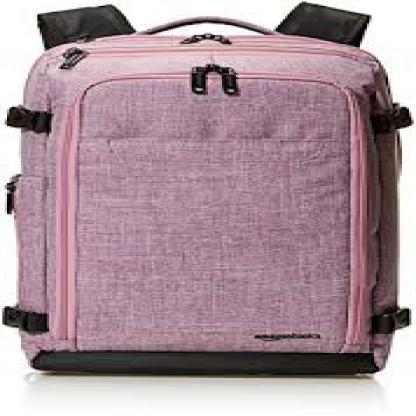morral: (2, 1, 414, 387)
